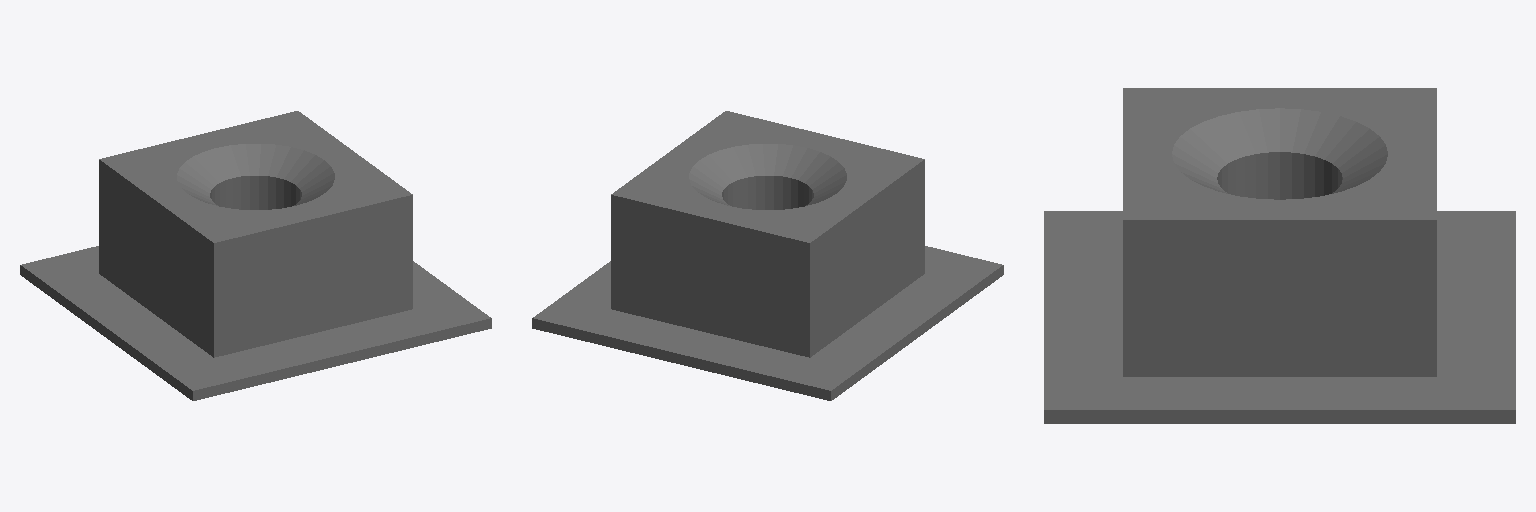
The robot description file, URDF, robot "hole_model":
<?xml version="1.0"?>
<robot name="hole_model">
  <link name="hole_link">
    <visual>
      <origin xyz="0 0 0" rpy="0 0 0" />
      <geometry>
        <mesh filename="package://ur5_robotiq/models/hole.stl" />
      </geometry>
      <material name="gray">
        <color rgba="0.5 0.5 0.5 1.0" />
      </material>
    </visual>

    <collision>
      <origin xyz="0 0 0" rpy="0 0 0" />
      <geometry>
        <mesh filename="package://ur5_robotiq/models/hole.stl" />
      </geometry>
    </collision>

    <inertial>
      <origin xyz="0 0 0" rpy="0 0 0" />
      <mass value="10.0" />
      <inertia
        ixx="1e-4" ixy="0.0" ixz="0.0"
        iyy="1e-4" iyz="0.0"
        izz="1e-4" />
    </inertial>
  </link>
</robot>

--- Render facts (derived) ---
The picture shows the robot from 3 angles, left to right: view 1: azimuth 30°, elevation 25°; view 2: azimuth 150°, elevation 25°; view 3: azimuth 270°, elevation 25°; orthographic projection.
Robot: hole_model — 1 links, 0 joints (none); root link hole_link; default pose: all joints at 0.
Visible links, largest first — view 1: hole_link; view 2: hole_link; view 3: hole_link.
Link boxes in pixels (<box>): hole_link: <box>20,111,491,400</box>; hole_link: <box>532,111,1003,400</box>; hole_link: <box>1044,88,1515,423</box>.
Size in the robot's own frame: 0.075 by 0.075 by 0.03 metres.
Meshes: 1 distinct files referenced, 1 mesh visuals loaded (1 binary STL).
